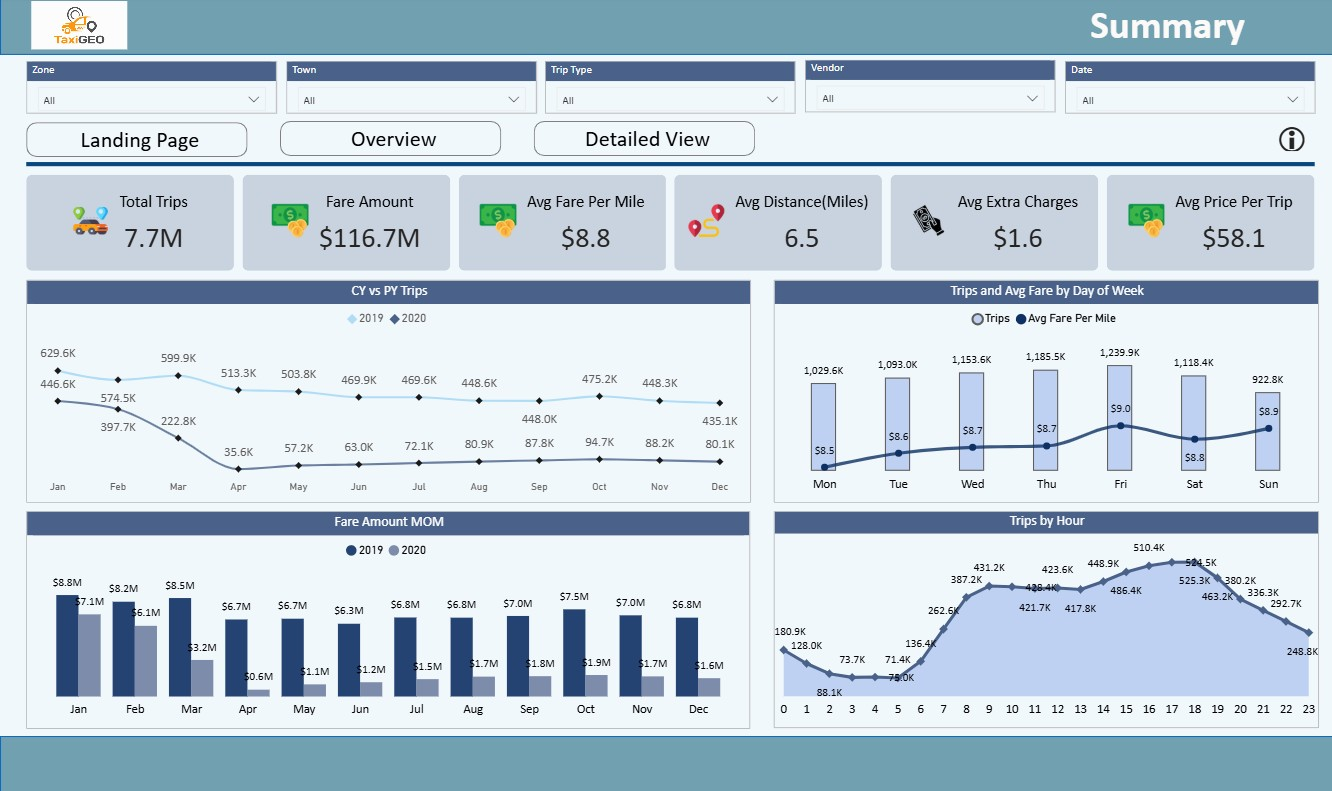

What the dashboard file says about the page in this screenshot:
{"tool":"powerbi","page":{"name":"Summary","canvas":[1280,765],"ordinal":1},"visuals":[{"type":"shape","box":[0,0,1279.4,56.5],"z":0},{"type":"cardVisual","fields":{"Data":["Measure Table.Total Trips","Measure Table.Fare Amount","Measure Table.Avg Fare","Measure Table.Avg Distance","Measure Table.Avg Extra Charges","Measure Table.Avg Price Per Ride"]},"box":[25.2,167,1238.6,102.1],"z":1000},{"type":"lineStackedColumnComboChart","title":"Trips and Avg Fare by Day of Week","fields":{"Category":["Calendar Table.Day of the Week"],"Y":["Measure Table.Total Trips"],"Y2":["Measure Table.AvgFarePerMile"]},"box":[741.2,271.5,522.6,213.8],"z":2000},{"type":"lineChart","title":"CY vs PY Trips ","fields":{"Category":["Calendar Table.Month"],"Y":["Measure Table.Total Trips"],"Series":["Calendar Table.Year"]},"box":[25.2,271.5,694.4,213.8],"z":3000},{"type":"clusteredColumnChart","title":"Fare Amount MOM","fields":{"Y":["Measure Table.Fare Amount"],"Category":["Calendar Table.Month"],"Series":["Calendar Table.Year"]},"box":[25.7,493.5,693.9,208.5],"z":4000},{"type":"areaChart","title":"Trips by Hour ","fields":{"Category":["2019-20 Taxi_data.TripHour"],"Y":["Measure Table.Total Trips"]},"box":[741.2,493.7,522.6,207.8],"z":5000},{"type":"textbox","box":[1022.3,0,237.3,56.3],"z":6000},{"type":"slicer","title":"Zone","fields":{"Values":["taxi_zones.Zone"]},"box":[25.2,62.7,240,50.3],"z":7000},{"type":"slicer","title":"Town","fields":{"Values":["taxi_zones.Borough"]},"box":[273.9,62.7,240,50.3],"z":8000},{"type":"slicer","title":"Trip Type","fields":{"Values":["2019-20 Taxi_data.Trip Type"]},"box":[522.5,62.7,240,50.3],"z":9000},{"type":"shape","box":[25.2,153.4,1234.5,15.6],"z":10000},{"type":"actionButton","box":[25.2,120.4,212,33.2],"z":11000},{"type":"actionButton","box":[268.5,119.9,212,33.6],"z":12000},{"type":"actionButton","box":[511.8,119.9,212.1,33.6],"z":13000},{"type":"slicer","title":"Date","fields":{"Values":["Calendar Table.MonthYear"]},"box":[1019.9,62.5,240.3,50.5],"z":14000},{"type":"image","box":[25.2,0,102.1,56.5],"z":15000},{"type":"slicer","title":"Vendor","fields":{"Values":["2019-20 Taxi_data.Vendor"]},"box":[771.2,60.9,240,50],"z":16000},{"type":"shape","box":[0,708.8,1279.4,56.5],"z":17000},{"type":"card","fields":{"Values":["Measure Table.Info"]},"box":[1215.7,120.1,44.4,33.6],"z":18000}]}

Visuals, with their boxes in screenshot pixels (x1, y1, x2, y2), scaled from the page's 1280x765 canvas onto the 1332x791 screenshot:
shape: 0 0 1331 58
cardVisual - Measure Table.Total Trips x Measure Table.Fare Amount: 26 173 1315 278
"Trips and Avg Fare by Day of Week" lineStackedColumnComboChart: 771 281 1315 502
"CY vs PY Trips " lineChart: 26 281 749 502
"Fare Amount MOM" clusteredColumnChart: 27 510 749 726
"Trips by Hour " areaChart: 771 510 1315 725
textbox: 1064 0 1311 58
"Zone" slicer: 26 65 276 117
"Town" slicer: 285 65 535 117
"Trip Type" slicer: 544 65 793 117
shape: 26 159 1311 175
actionButton: 26 124 247 159
actionButton: 279 124 500 159
actionButton: 533 124 753 159
"Date" slicer: 1061 65 1311 117
image: 26 0 132 58
"Vendor" slicer: 803 63 1052 115
shape: 0 733 1331 790
card - Measure Table.Info: 1265 124 1311 159
